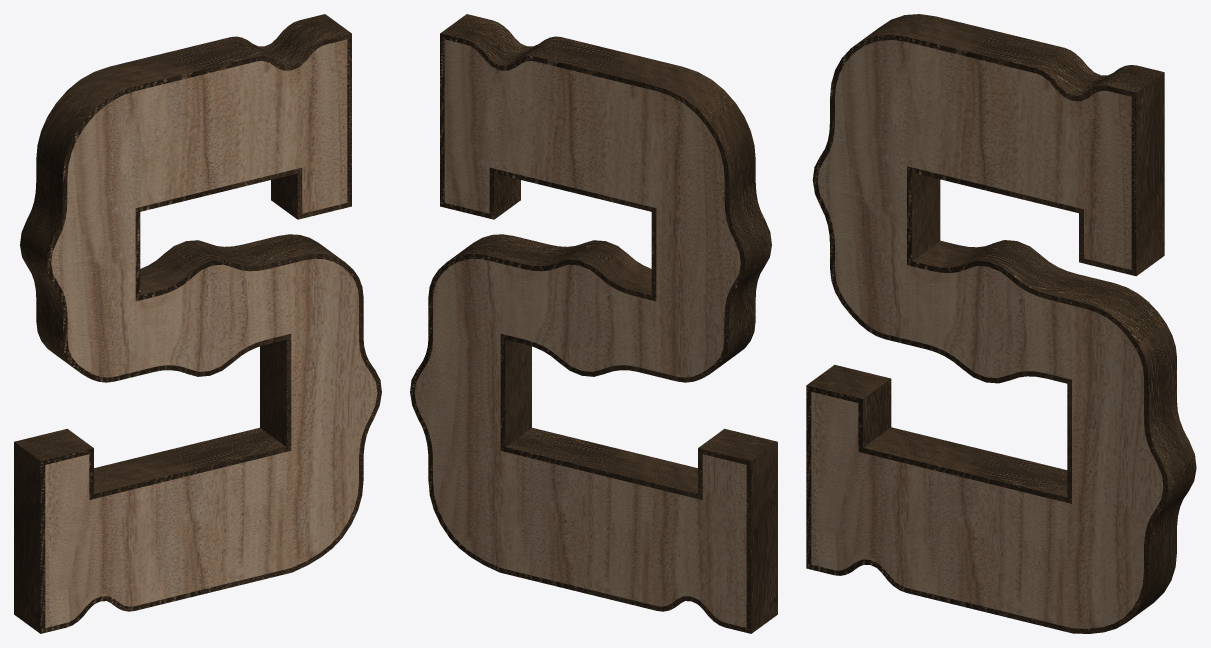
The picture shows the model from 3 angles, left to right: view 1: azimuth 30°, elevation 25°; view 2: azimuth 150°, elevation 25°; view 3: azimuth 330°, elevation 25°; orthographic projection. The views are drawn at different scales.
Parts seen in each view (by area): view 1: S, S_outline; view 2: S, S_outline; view 3: S, S_outline.
Part boxes in pixels (x1=…): S: x1=45, y1=39, x2=377, y2=627; S_outline: x1=14, y1=14, x2=381, y2=633; S: x1=414, y1=39, x2=746, y2=627; S_outline: x1=410, y1=14, x2=777, y2=633; S: x1=811, y1=40, x2=1163, y2=628; S_outline: x1=806, y1=14, x2=1196, y2=633.
Size of the model in its own units: 74.09 by 109 by 10.
Materials: 2 (2 with a texture image).
